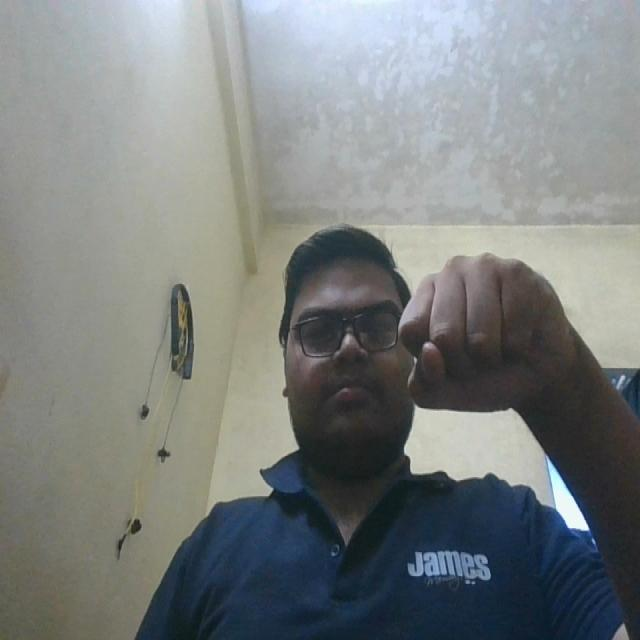Yes: (370, 238, 562, 423)
